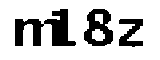1: (52, 8, 76, 51)
8: (83, 7, 114, 53)
m: (9, 15, 59, 51)
z: (118, 16, 146, 51)
